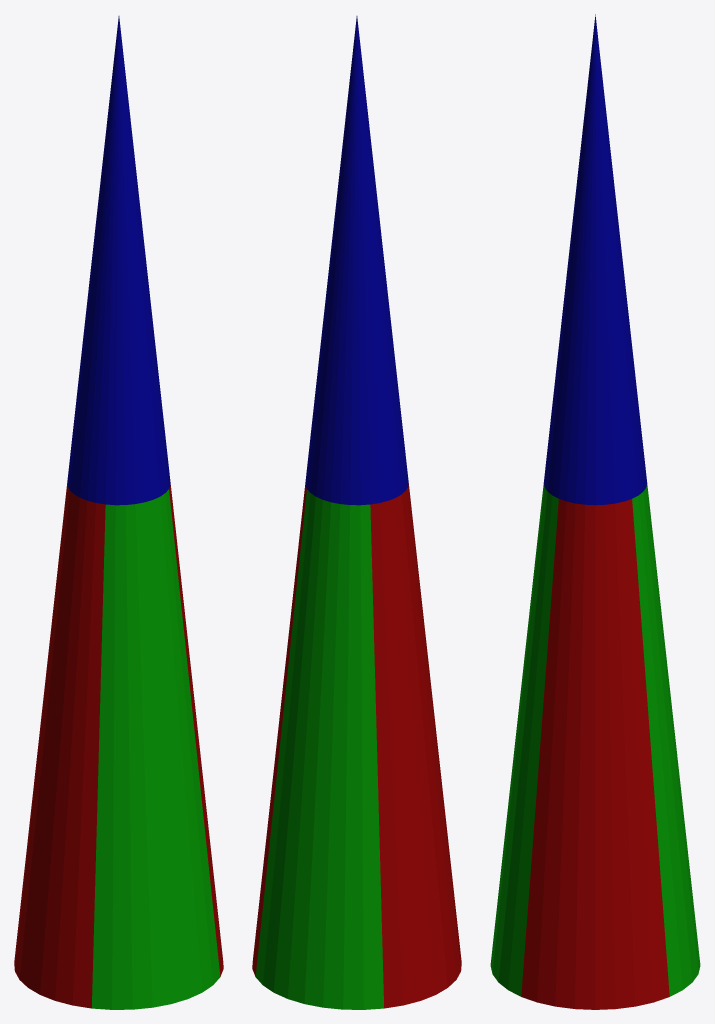
File: xyzbone.obj
3 views of the same model, side by side, from view 1: azimuth 30°, elevation 25°; view 2: azimuth 150°, elevation 25°; view 3: azimuth 270°, elevation 25° (orthographic).
Visible parts, largest first — view 1: Cone; view 2: Cone; view 3: Cone.
Part boxes in pixels (x1,y1,x2,y2): Cone: (14, 16, 223, 1009); Cone: (252, 16, 461, 1009); Cone: (490, 14, 700, 1009).
Size of the model in its own units: 0.2 by 1 by 0.2.
